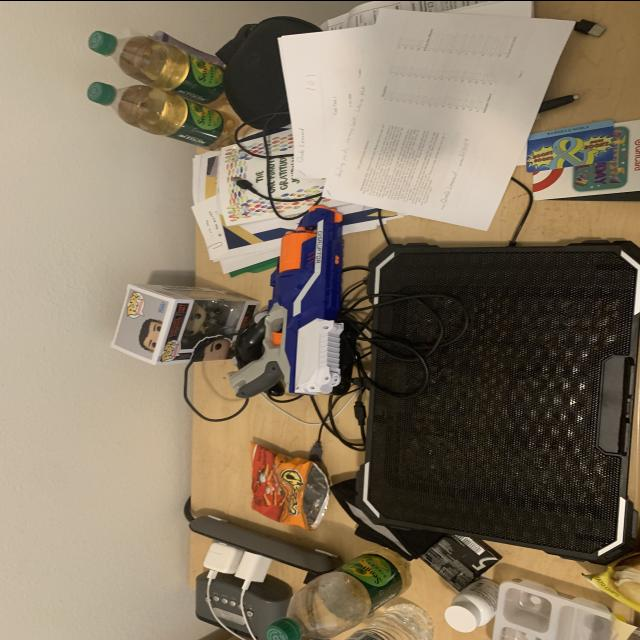nerf-maverik: (224, 194, 360, 406)
